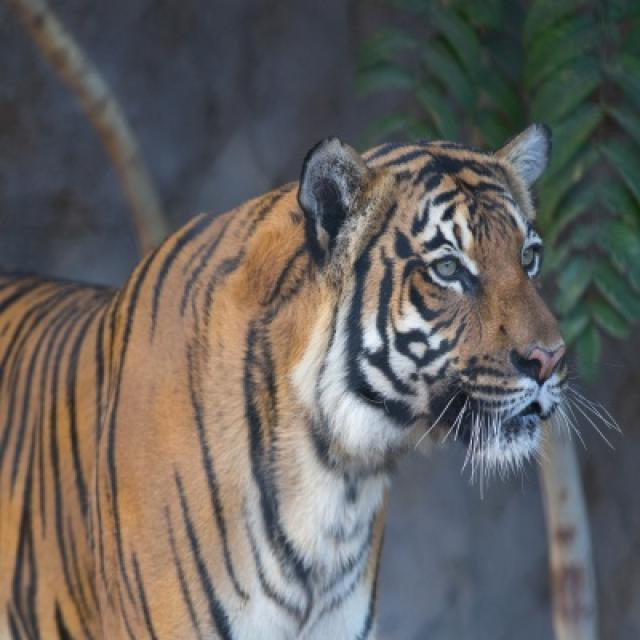Tiger: (3, 123, 574, 635)
